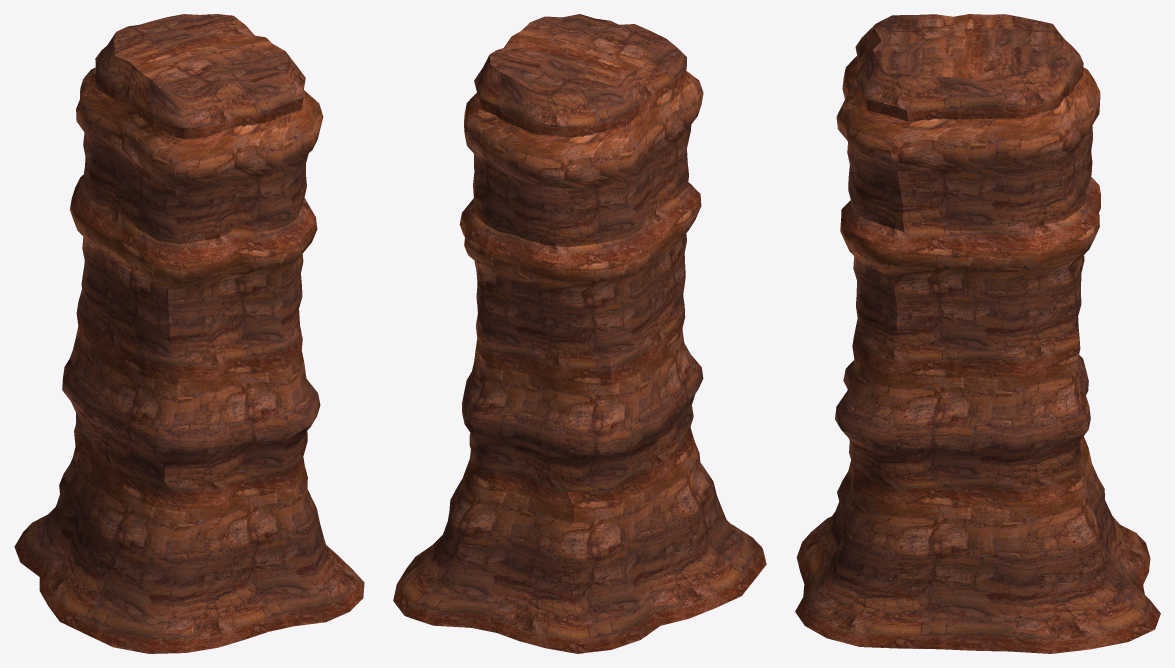
The model's file is canyon_pillar_b.glb.
3 views of the same model, side by side, from view 1: azimuth 30°, elevation 25°; view 2: azimuth 150°, elevation 25°; view 3: azimuth 270°, elevation 25° (orthographic). The views are drawn at different scales.
Visible parts, largest first — view 1: canyon_pillar_b; view 2: canyon_pillar_b; view 3: canyon_pillar_b.
Part boxes in pixels (left/top/right/bottom): canyon_pillar_b: left=14, top=14, right=364, bottom=653; canyon_pillar_b: left=393, top=14, right=766, bottom=653; canyon_pillar_b: left=795, top=14, right=1160, bottom=653.
Size of the model in its own units: 17.04 by 30.28 by 18.31.
1 material, 1 textured.
